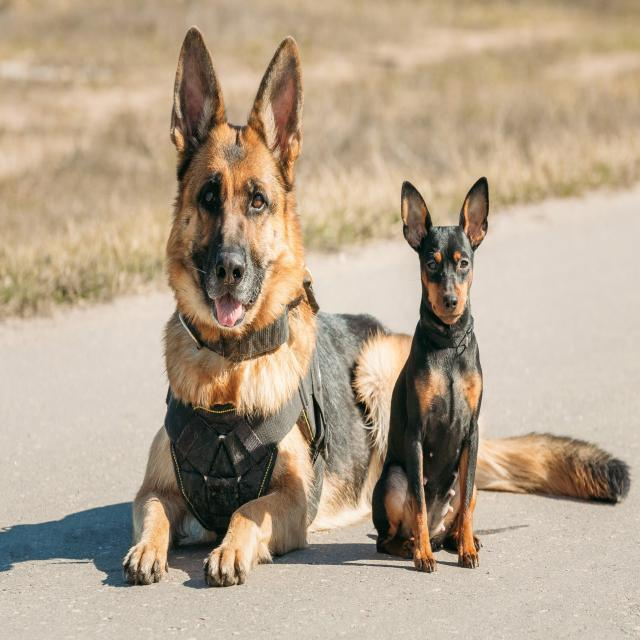Dog: (160, 21, 312, 337), (396, 172, 493, 332)
